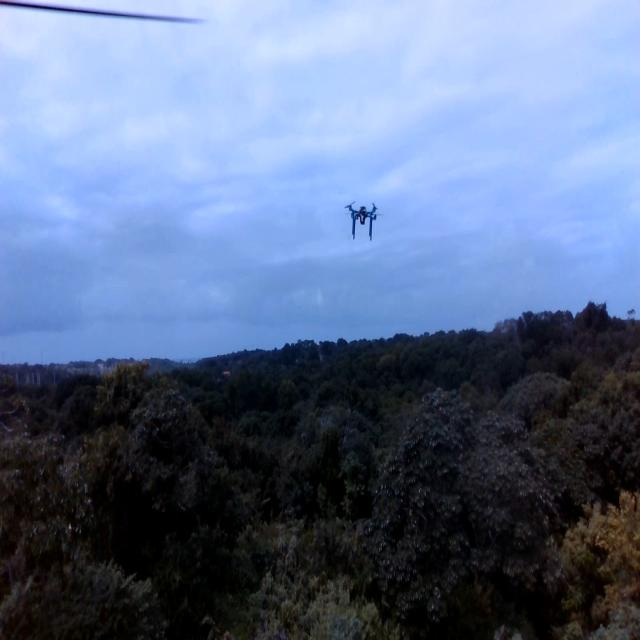-uav-: (338, 185, 394, 262)
